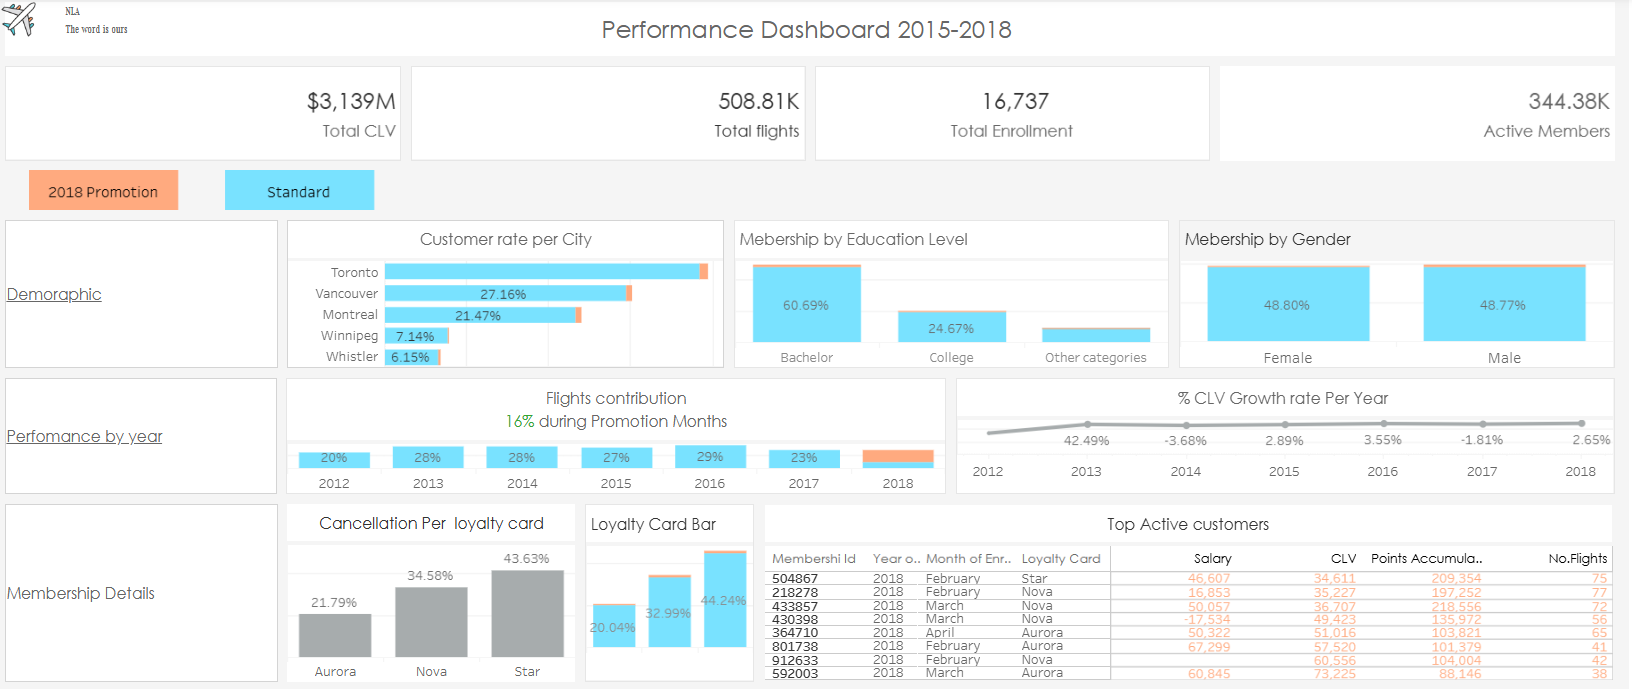

This screenshot's page, from the dashboard's own definition file:
{"tool":"tableau","page":{"name":"Performance Dashboard","canvas":[1000,1000],"units":"permille","ordinal":0},"visuals":[{"type":"title","box":[5.4,9.5,989.3,63]},{"type":"image","param":"Image/6557822.png","box":[3.4,13.1,104.8,61.8]},{"type":"text","box":[45.6,15.5,73.5,52.3]},{"type":"worksheet","title":"Total CLv","mark":"Automatic","box":[5.4,72.5,247.8,152.2]},{"type":"worksheet","title":"Total Flight","mark":"Automatic","box":[253.2,72.5,247.2,152.2]},{"type":"worksheet","title":"Total-Enrollment","mark":"Automatic","box":[500.3,72.5,247.1,152.2]},{"type":"worksheet","title":"Active Members","mark":"Automatic","box":[747.5,72.5,247.2,152.2]},{"type":"worksheet","title":"Promtion VS standard","mark":"Square","cols":["Enrollment Type"],"box":[5.4,225.1,245.3,72.2]},{"type":"blank","box":[250.7,225.1,744,72.2]},{"type":"text","box":[5.4,297.3,172,233.1]},{"type":"worksheet","title":"Top customers","mark":"Automatic","rows":["City"],"cols":["Customer Loyalty History.csv_725D93BC78904E71992941580CD55AD"],"box":[177.3,297.3,272.7,233.1]},{"type":"worksheet","title":"Education","mark":"Automatic","rows":["Loyalty Number (Customer Flight Activity.csv) (copy)_1263541"],"box":[450,297.3,272.7,233.1]},{"type":"worksheet","title":"Gender","mark":"Automatic","rows":["Loyalty Number (Customer Flight Activity.csv)"],"cols":["Gender"],"box":[722.6,297.3,272,233.1]},{"type":"text","box":[5.4,530.3,171.8,231.9]},{"type":"worksheet","title":"flights- Year","mark":"Bar","rows":["Total Flights"],"cols":["Enrollment Year"],"box":[177.3,530.3,409,231.9]},{"type":"worksheet","title":"CLV Growht","mark":"Line","rows":["CLV"],"cols":["Enrollment Year"],"box":[586.3,530.3,408.3,231.9]},{"type":"text","box":[5.4,762.2,172,228.3]},{"type":"worksheet","title":"Canclation Rate (2)","mark":"Bar","rows":["Calculation_1263541182472339464"],"cols":["Loyalty Card"],"box":[177.3,762.2,114.1,228.3]},{"type":"worksheet","title":"Loyalty Card Bar","mark":"Automatic","rows":["Customer Loyalty History.csv_725D93BC78904E71992941580CD55AD"],"cols":["Loyalty Card"],"box":[291.5,762.2,188,228.3]},{"type":"worksheet","title":"Membership Info","mark":"Automatic","rows":["Loyalty Number (Customer Flight Activity.csv)","Enrollment Year","Enrollment Month","Loyalty Card"],"box":[479.5,762.2,515.1,228.3]}]}

Visuals, with their boxes on the dashboard's canvas, which has no fixed pixel size, in thousandths of its width and height (x1, y1, x2, y2). These are canvas units, not pixel positions in the 1632x689 screenshot, which may show the page scaled, cropped or inside an application window:
title: x1=5, y1=10, x2=995, y2=72
image: x1=3, y1=13, x2=108, y2=75
text: x1=46, y1=16, x2=119, y2=68
"Total CLv" worksheet: x1=5, y1=72, x2=253, y2=225
"Total Flight" worksheet: x1=253, y1=72, x2=500, y2=225
"Total-Enrollment" worksheet: x1=500, y1=72, x2=747, y2=225
"Active Members" worksheet: x1=748, y1=72, x2=995, y2=225
"Promtion VS standard" worksheet (Square marks): x1=5, y1=225, x2=251, y2=297
blank: x1=251, y1=225, x2=995, y2=297
text: x1=5, y1=297, x2=177, y2=530
"Top customers" worksheet: x1=177, y1=297, x2=450, y2=530
"Education" worksheet: x1=450, y1=297, x2=723, y2=530
"Gender" worksheet: x1=723, y1=297, x2=995, y2=530
text: x1=5, y1=530, x2=177, y2=762
"flights- Year" worksheet (Bar marks): x1=177, y1=530, x2=586, y2=762
"CLV Growht" worksheet (Line marks): x1=586, y1=530, x2=995, y2=762
text: x1=5, y1=762, x2=177, y2=990
"Canclation Rate (2)" worksheet (Bar marks): x1=177, y1=762, x2=291, y2=990
"Loyalty Card Bar" worksheet: x1=292, y1=762, x2=480, y2=990
"Membership Info" worksheet: x1=480, y1=762, x2=995, y2=990
